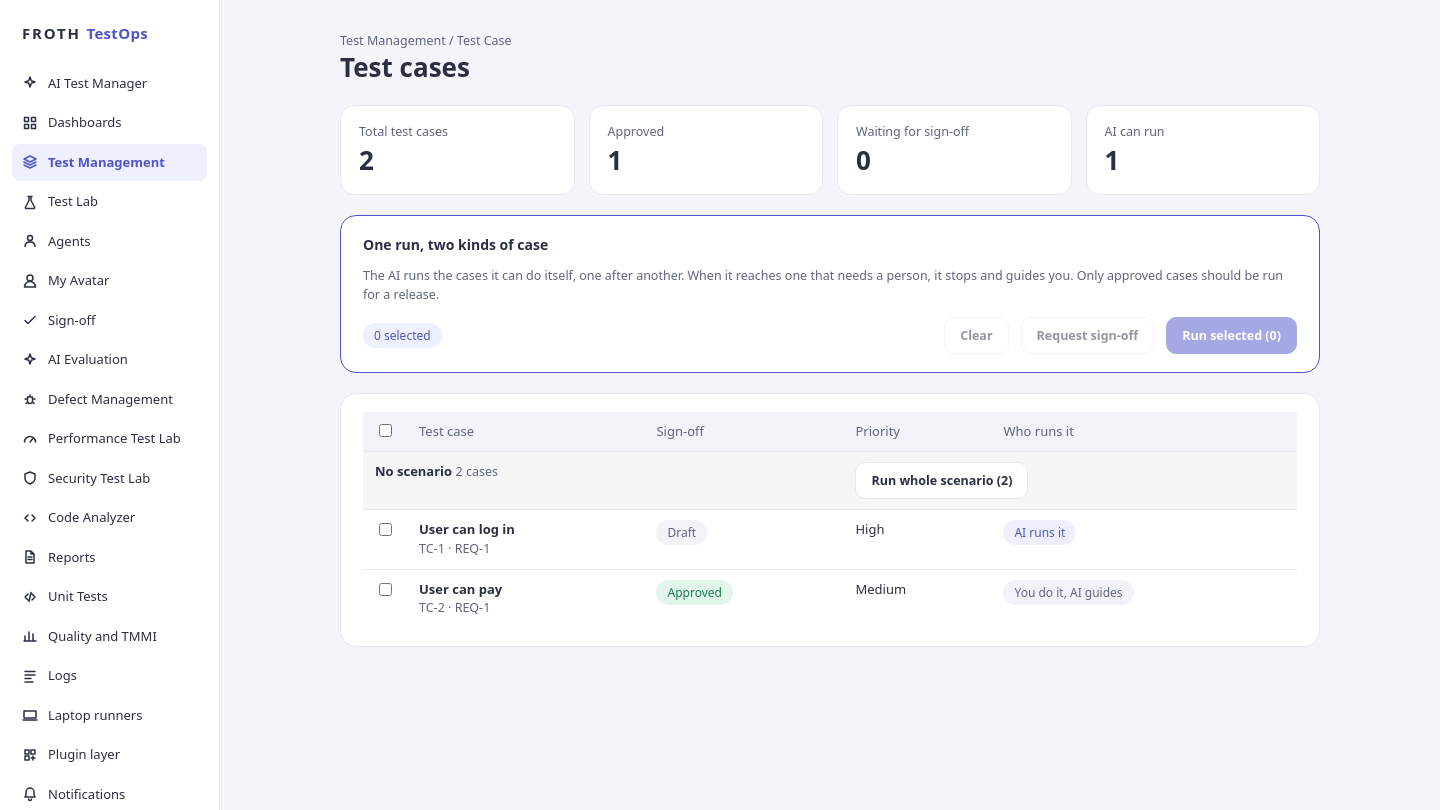
test cases and sign-off › warns that unapproved cases will not pass a release sign-off
Step 1. Click the checkbox named "Select TC-1" → point(386, 530), box [379,523,392,536]
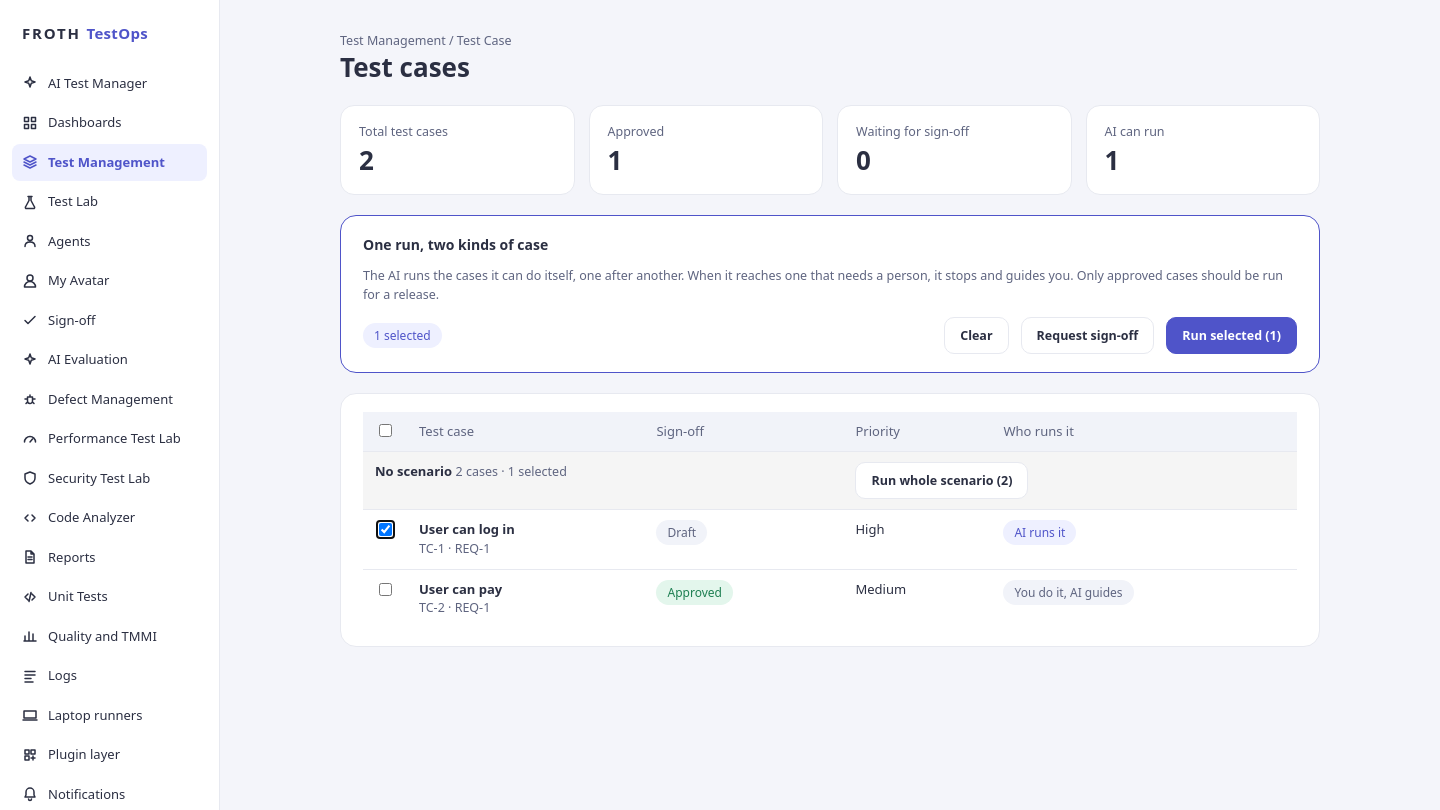
Step 2. Click the button "Run selected (1)" → point(1232, 335), box [1166,317,1297,354]
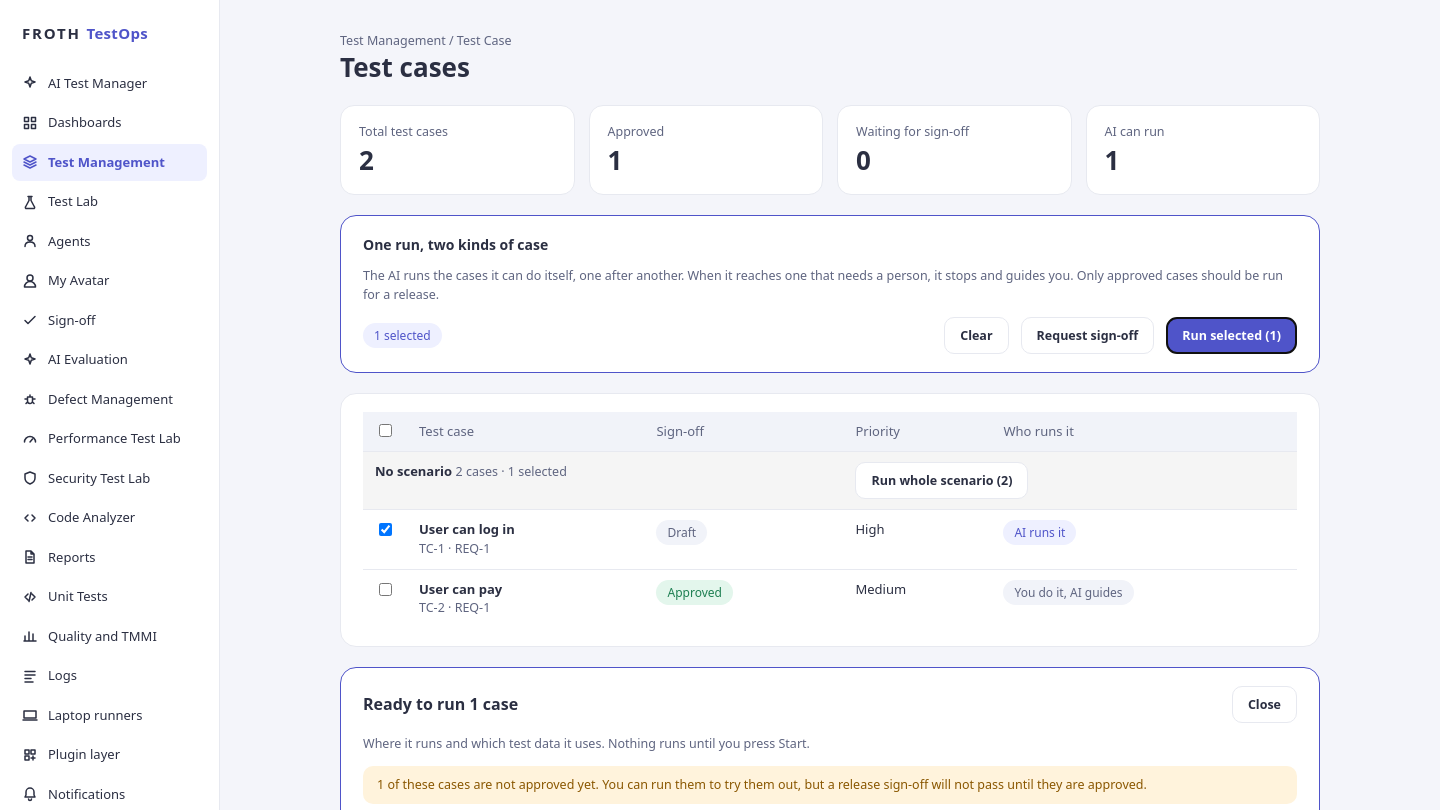
Now the text "not approved yet" is shown, box [384,776,1147,792]
